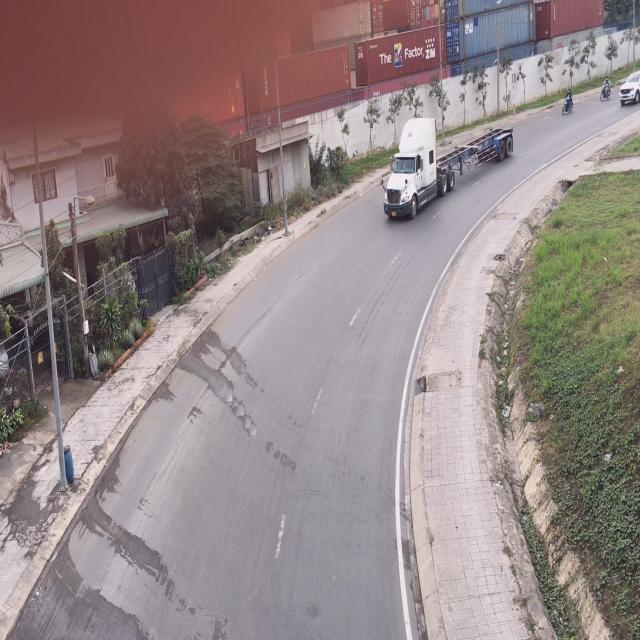car: (620, 68, 640, 108)
motorbike: (562, 85, 574, 116), (600, 73, 612, 104)
truck: (382, 116, 514, 221)
